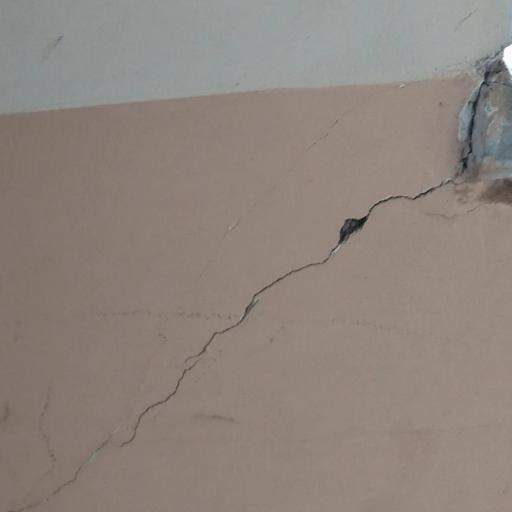major_crack: (82, 39, 512, 501)
